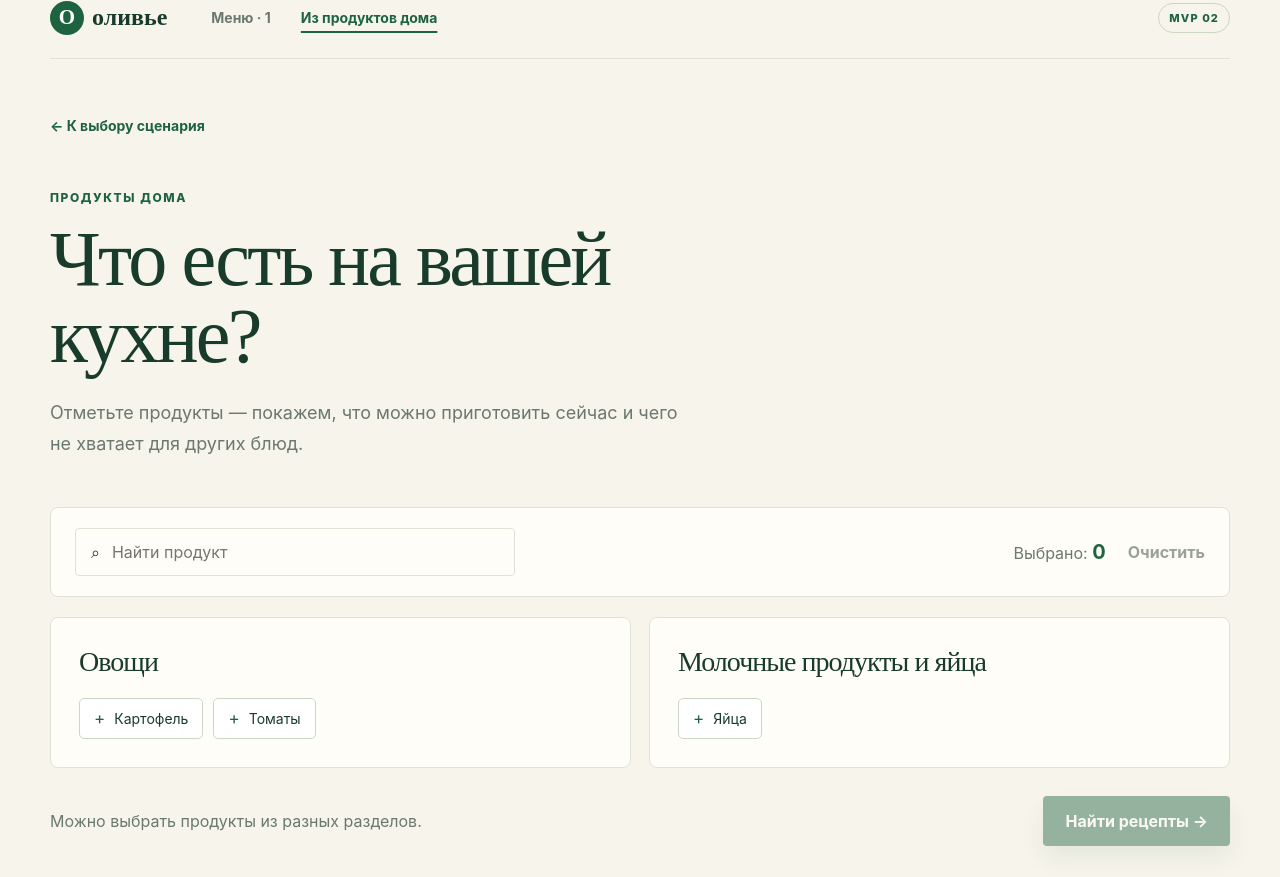
Test: App › показывает пустую выдачу с возможностью изменить продукты
Click the button "+ Картофель".
click(141, 719)  # box [79,698,203,739]
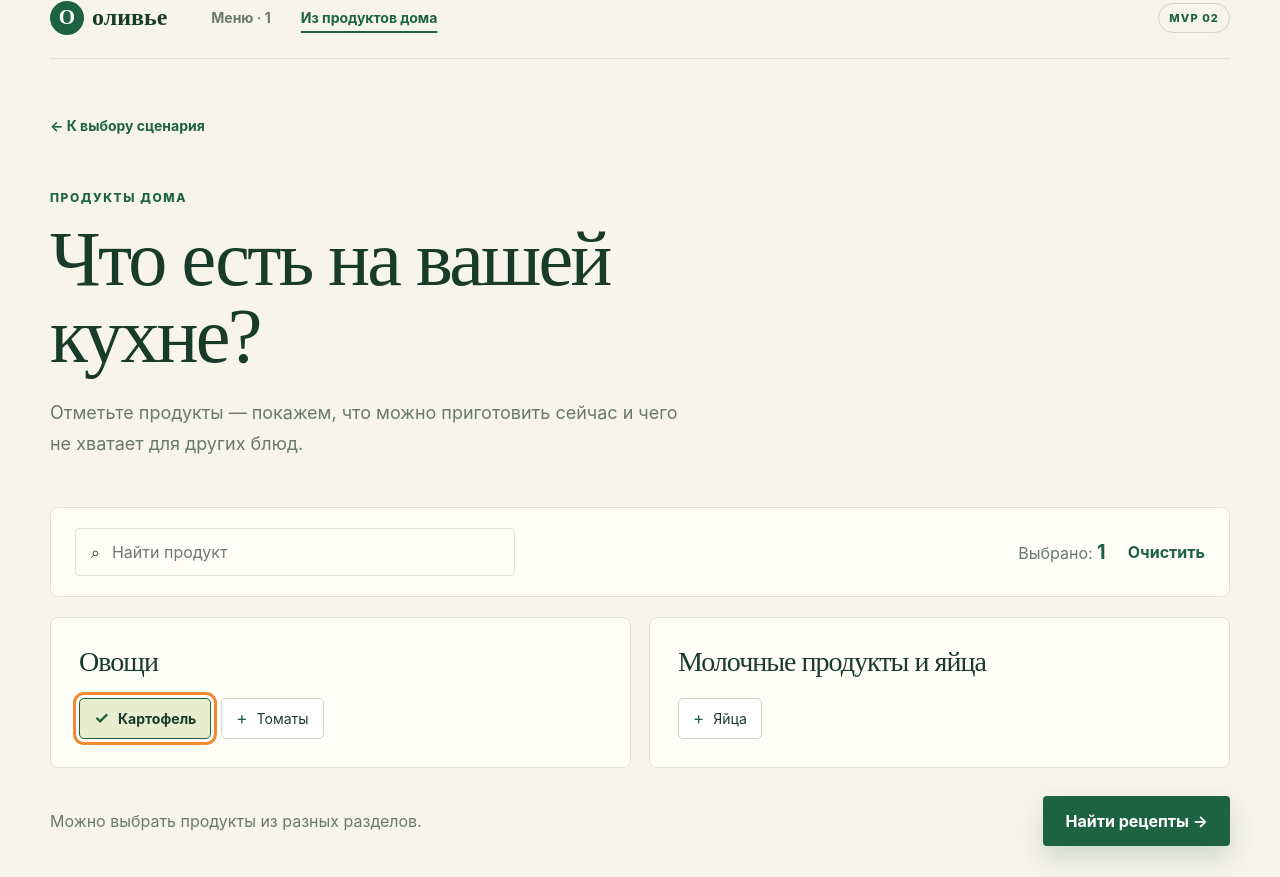
Click the button "Найти рецепты →".
click(1137, 821)  # box [1043,796,1230,846]
(page scrolled)
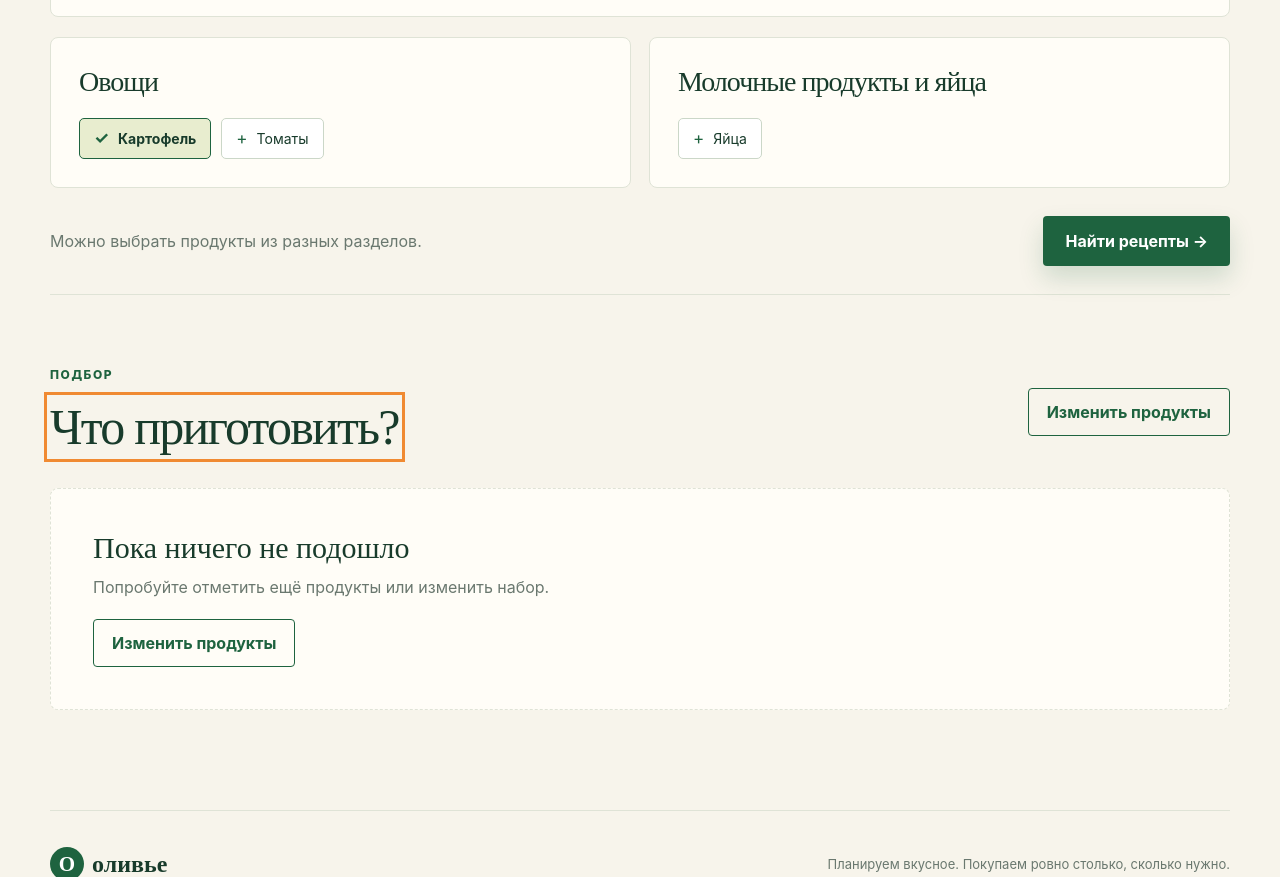
Result: the heading "Пока ничего не подошло" is shown at [93,531,410,564]
Click the button "Изменить продукты" in the row of "Что приготовить?".
click(1129, 412)  # box [1028,388,1230,436]
(page scrolled)
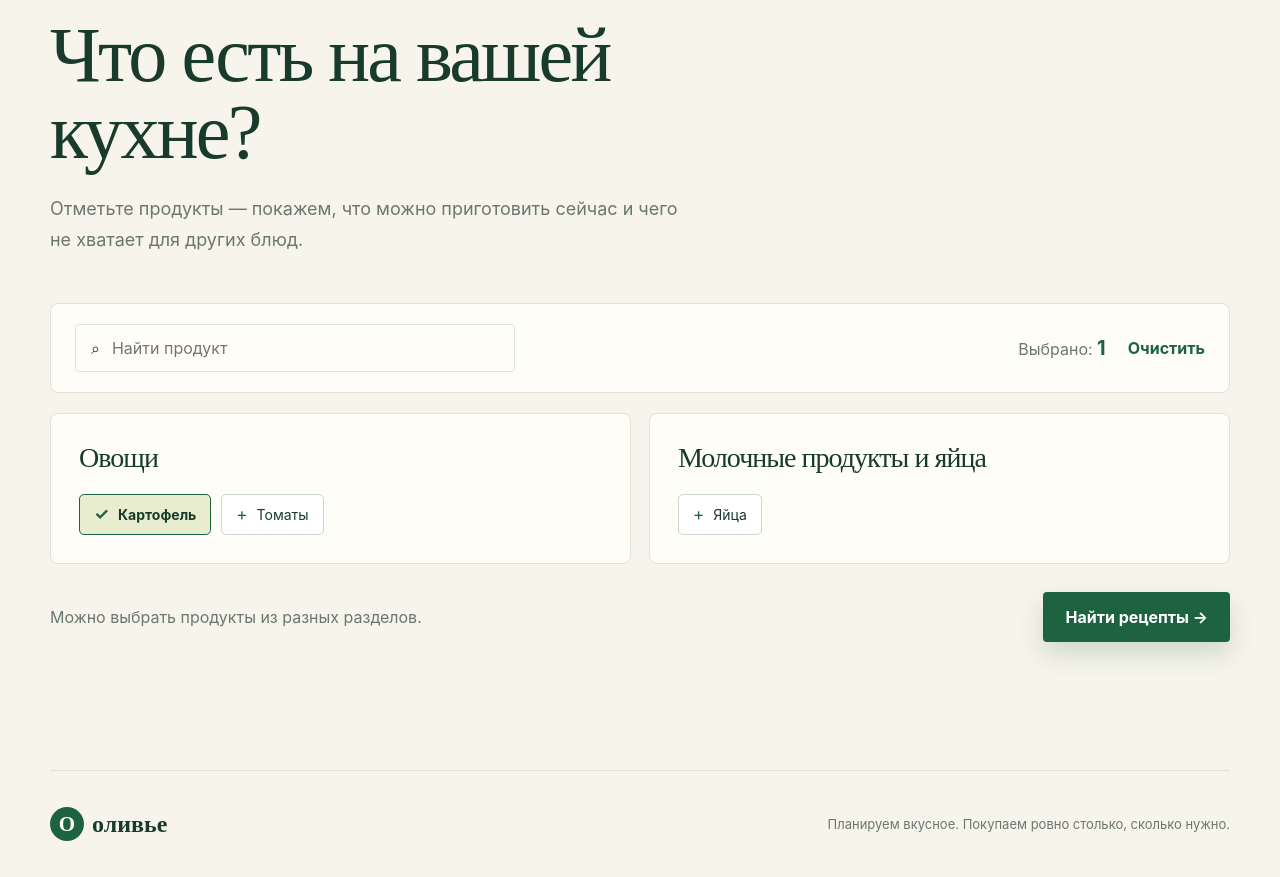
Result: the heading "Пока ничего не подошло" is gone
